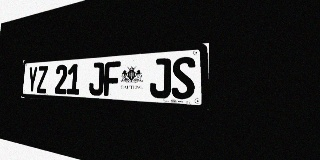1: (67, 64, 80, 95)
2: (55, 64, 67, 94)
F: (104, 61, 121, 96)
J: (149, 58, 171, 99), (89, 62, 104, 96)
S: (171, 56, 195, 100)
Y: (27, 66, 38, 93)
Z: (37, 66, 48, 93)
